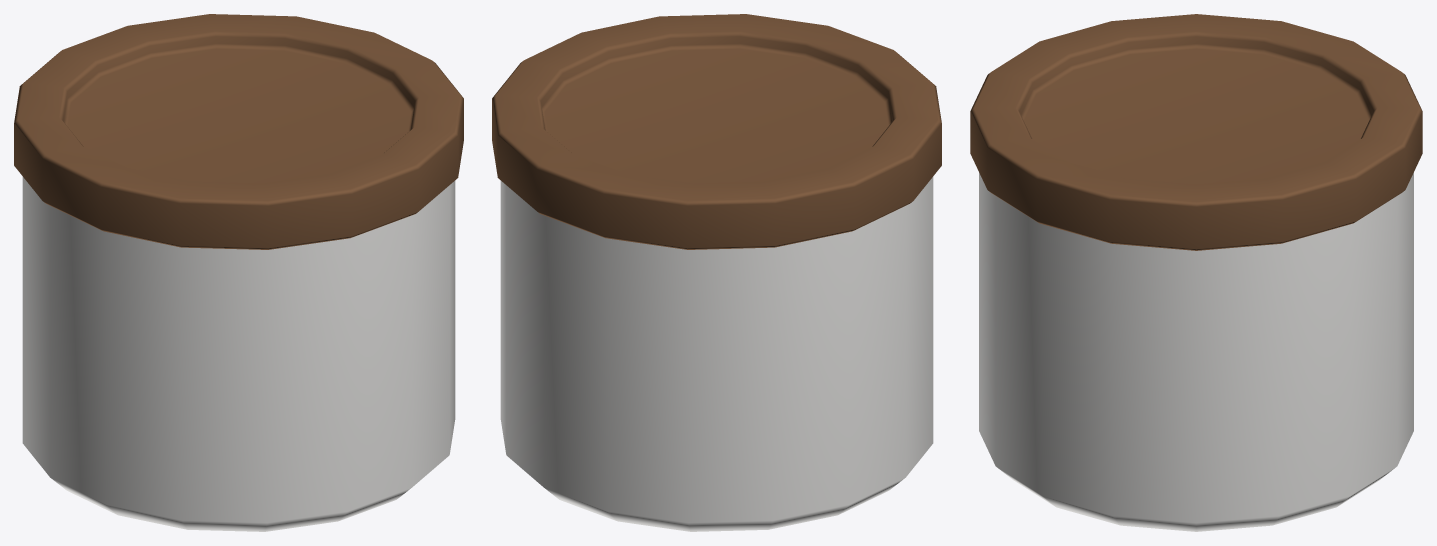
The model's file is Jar_6.glb.
3 renders of one model, left to right at view 1: azimuth 30°, elevation 25°; view 2: azimuth 150°, elevation 25°; view 3: azimuth 270°, elevation 25°, orthographic.
Visible parts, largest first — view 1: Jar_6; view 2: Jar_6; view 3: Jar_6.
Part boxes in pixels (<box>): Jar_6: <box>14,14,463,531</box>; Jar_6: <box>492,14,941,531</box>; Jar_6: <box>970,14,1422,531</box>.
Size of the model in its own units: 0.2474 by 0.2053 by 0.2474.
2 materials, 2 textured.
